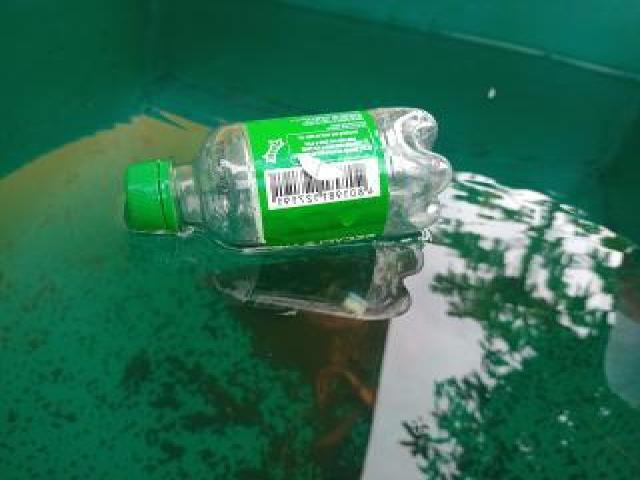Bottle: (113, 100, 458, 256)
